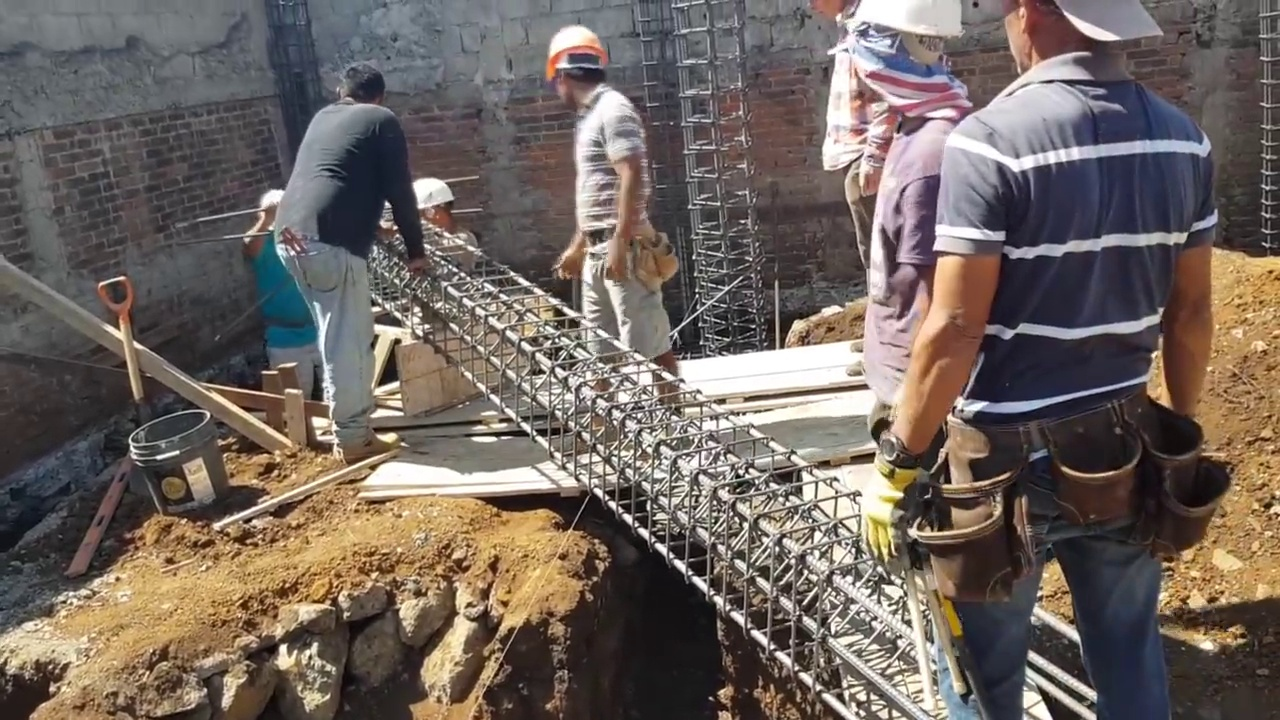helmet: (846, 0, 967, 45), (537, 26, 608, 72), (403, 166, 447, 200), (258, 188, 289, 214)
helmet-off: (982, 0, 1136, 80), (335, 61, 382, 104)
helmet-on: (816, 2, 969, 114), (542, 25, 611, 111), (408, 173, 455, 231), (255, 188, 289, 234)
person: (858, 0, 1225, 701), (779, 2, 978, 516), (258, 61, 426, 458), (544, 21, 678, 395), (242, 175, 335, 403), (405, 165, 483, 274)
